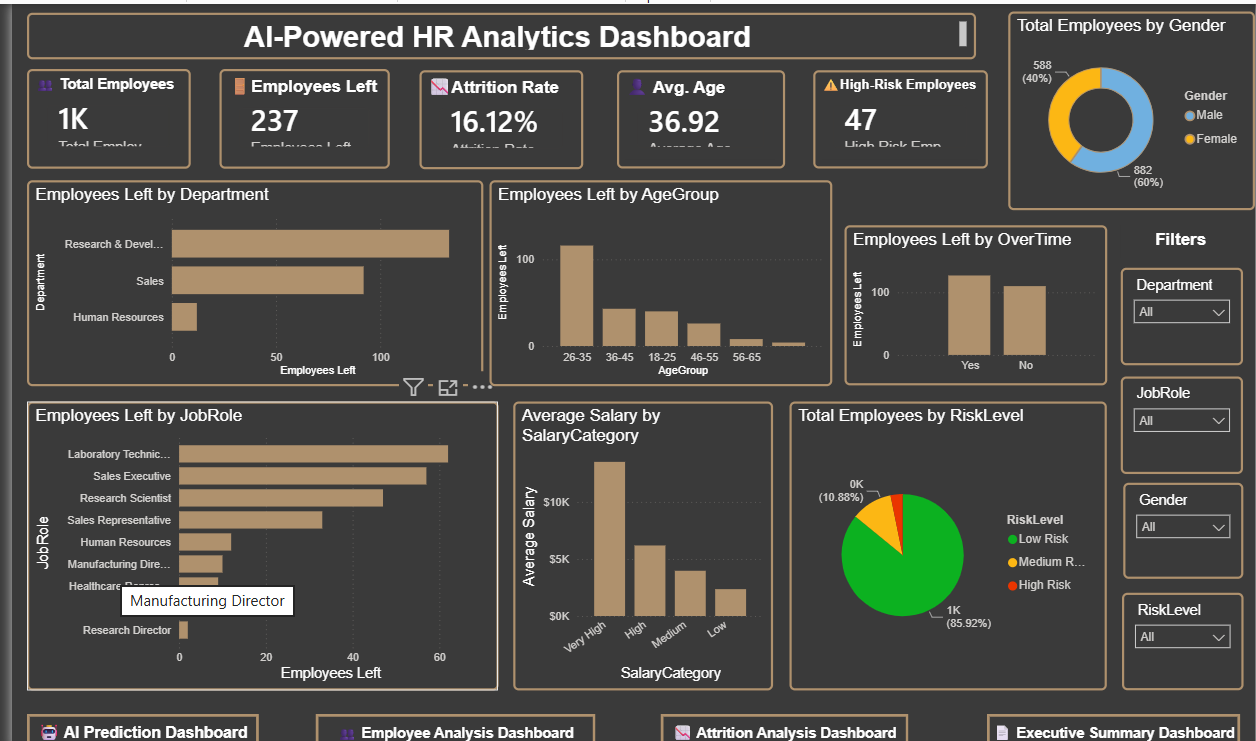

Layout of this report page (visuals, bound fields, positions):
{"tool":"powerbi","page":{"name":"Executive Dashboard","canvas":[1366,820],"ordinal":0},"visuals":[{"type":"textbox","box":[16.3,10.1,1043.1,51.5],"z":0},{"type":"cardVisual","title":"👥 Total Employees","fields":{"Data":["FactEmployee.Total Employees"]},"box":[16.3,71.6,179.7,109.3],"z":1000},{"type":"cardVisual","title":"🚪Employees Left","fields":{"Data":["FactEmployee.Employees Left"]},"box":[227.5,71.6,187.2,109.3],"z":2000},{"type":"cardVisual","title":"📉Attrition Rate","fields":{"Data":["FactEmployee.Attrition Rate"]},"box":[448.5,73,180,109],"z":3000},{"type":"cardVisual","title":"👤 Avg. Age","fields":{"Data":["FactEmployee.Average Age"]},"box":[664.8,73.2,184.5,108.4],"z":4000},{"type":"cardVisual","title":"⚠️High-Risk Employees","fields":{"Data":["FactEmployee.High Risk Employees"]},"box":[880.1,73.2,191.8,108.4],"z":5000},{"type":"clusteredBarChart","fields":{"Y":["FactEmployee.Employees Left"],"Category":["FactEmployee.Department"]},"box":[16.3,193.5,501.4,226.2],"z":6000},{"type":"clusteredBarChart","fields":{"Y":["FactEmployee.Employees Left"],"Category":["FactEmployee.JobRole"]},"box":[16.1,436.4,518.4,317.8],"z":7000},{"type":"donutChart","fields":{"Category":["FactEmployee.Gender"],"Y":["FactEmployee.Total Employees"]},"box":[1094.5,8,271.4,218.7],"z":8000},{"type":"clusteredColumnChart","fields":{"Category":["FactEmployee.OverTime"],"Y":["FactEmployee.Employees Left"]},"box":[914.9,243.8,289,175.9],"z":9000},{"type":"columnChart","fields":{"Category":["FactEmployee.AgeGroup"],"Y":["FactEmployee.Employees Left"]},"box":[525.3,193.5,377,226.2],"z":10000},{"type":"pieChart","fields":{"Category":["FactEmployee.RiskLevel"],"Y":["FactEmployee.Total Employees"]},"box":[855.2,436.4,348.5,317.8],"z":11000},{"type":"columnChart","fields":{"Category":["FactEmployee.SalaryCategory"],"Y":["FactEmployee.Average Salary"]},"box":[550.6,436.4,285.6,317.8],"z":12000},{"type":"slicer","fields":{"Values":["FactEmployee.Department"]},"box":[1218.4,290,134.7,106.9],"z":13000},{"type":"slicer","fields":{"Values":["FactEmployee.Gender"]},"box":[1221.3,525.7,131.8,105.4],"z":14000},{"type":"slicer","fields":{"Values":["FactEmployee.JobRole"]},"box":[1218.4,410,134.7,106.9],"z":15000},{"type":"slicer","fields":{"Values":["FactEmployee.RiskLevel"]},"box":[1219.9,647.3,133.3,106.9],"z":16000},{"type":"actionButton","box":[713.2,780.5,272.4,39.5],"z":16002},{"type":"actionButton","box":[1072,780.5,278.2,39.5],"z":16003},{"type":"actionButton","box":[333.9,780.5,307.5,39.5],"z":16004},{"type":"actionButton","box":[16.1,780.5,254.8,39.5],"z":16005},{"type":"textbox","box":[1218.4,243.1,131.8,35.1],"z":16006}]}

Visuals, with their boxes in screenshot pixels (x1, y1, x2, y2), scaled from the page's 1366x820 canvas onto the 1256x741 screenshot:
textbox: [15,9,974,56]
"👥 Total Employees" cardVisual: [15,65,180,163]
"🚪Employees Left" cardVisual: [209,65,381,163]
"📉Attrition Rate" cardVisual: [412,66,578,164]
"👤 Avg. Age" cardVisual: [611,66,781,164]
"⚠️High-Risk Employees" cardVisual: [809,66,986,164]
clusteredBarChart - FactEmployee.Employees Left x FactEmployee.Department: [15,175,476,379]
clusteredBarChart - FactEmployee.Employees Left x FactEmployee.JobRole: [15,394,491,682]
donutChart - FactEmployee.Gender x FactEmployee.Total Employees: [1006,7,1255,205]
clusteredColumnChart - FactEmployee.OverTime x FactEmployee.Employees Left: [841,220,1107,379]
columnChart - FactEmployee.AgeGroup x FactEmployee.Employees Left: [483,175,830,379]
pieChart - FactEmployee.RiskLevel x FactEmployee.Total Employees: [786,394,1107,682]
columnChart - FactEmployee.SalaryCategory x FactEmployee.Average Salary: [506,394,769,682]
slicer - FactEmployee.Department: [1120,262,1244,359]
slicer - FactEmployee.Gender: [1123,475,1244,570]
slicer - FactEmployee.JobRole: [1120,370,1244,467]
slicer - FactEmployee.RiskLevel: [1122,585,1244,682]
actionButton: [656,705,906,740]
actionButton: [986,705,1241,740]
actionButton: [307,705,590,740]
actionButton: [15,705,249,740]
textbox: [1120,220,1241,251]
